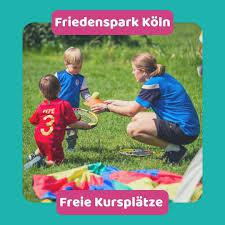child: (22, 75, 81, 170), (48, 45, 96, 154)
